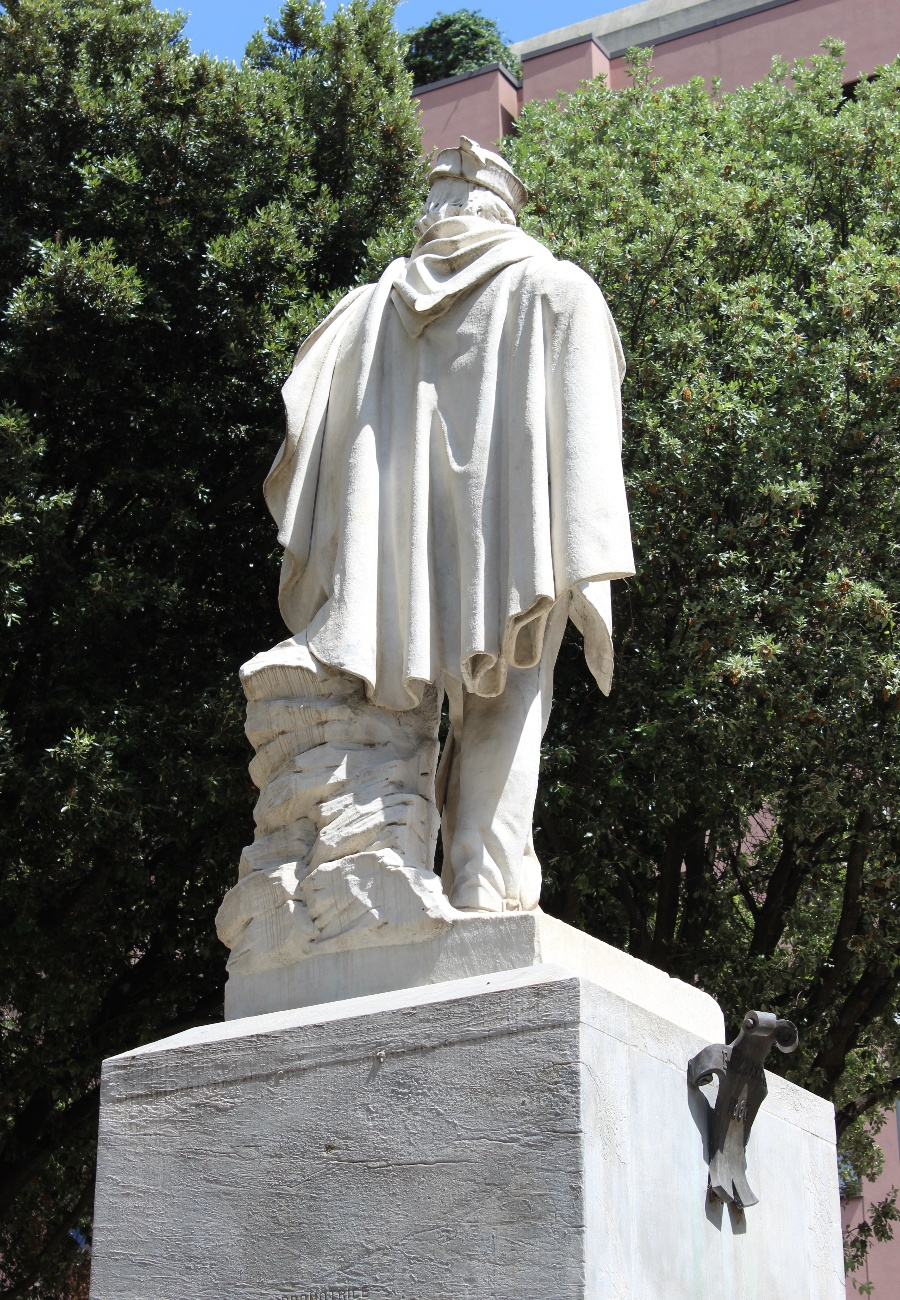Giuseppe Garibaldi: (259, 137, 638, 918)
